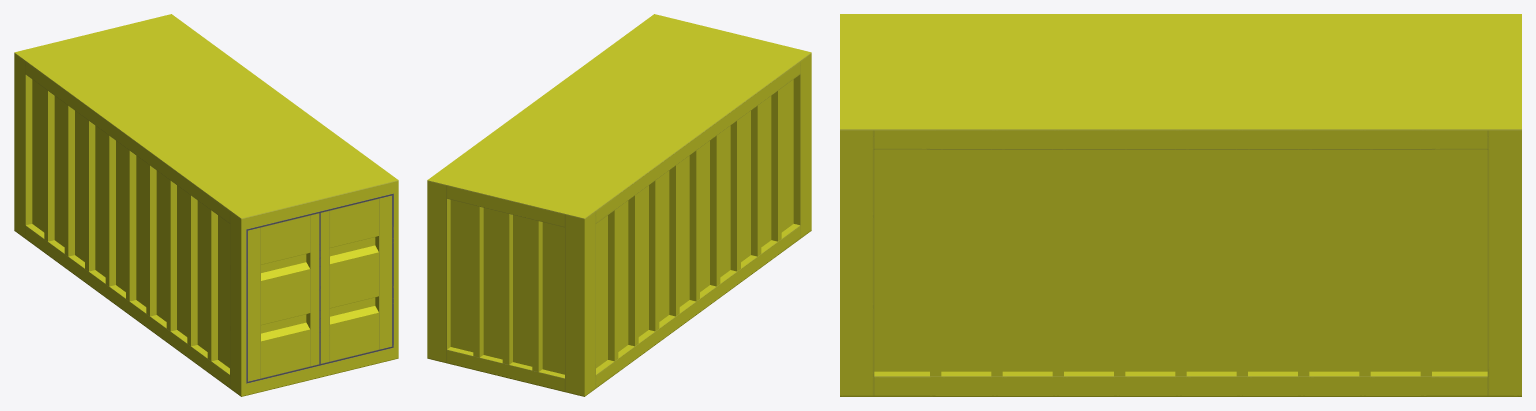
The model's file is OB_Container_61 1.fbx.
3 views of the same model, side by side, from view 1: azimuth 30°, elevation 25°; view 2: azimuth 150°, elevation 25°; view 3: azimuth 270°, elevation 25° (orthographic). The views are drawn at different scales.
Visible parts, largest first — view 1: Container_61; view 2: Container_61; view 3: Container_61.
Part boxes in pixels (<box>): Container_61: <box>14,14,398,396</box>; Container_61: <box>427,14,811,396</box>; Container_61: <box>840,14,1521,396</box>.
Bounding box in the file's own units: 240 × 260 × 600.
